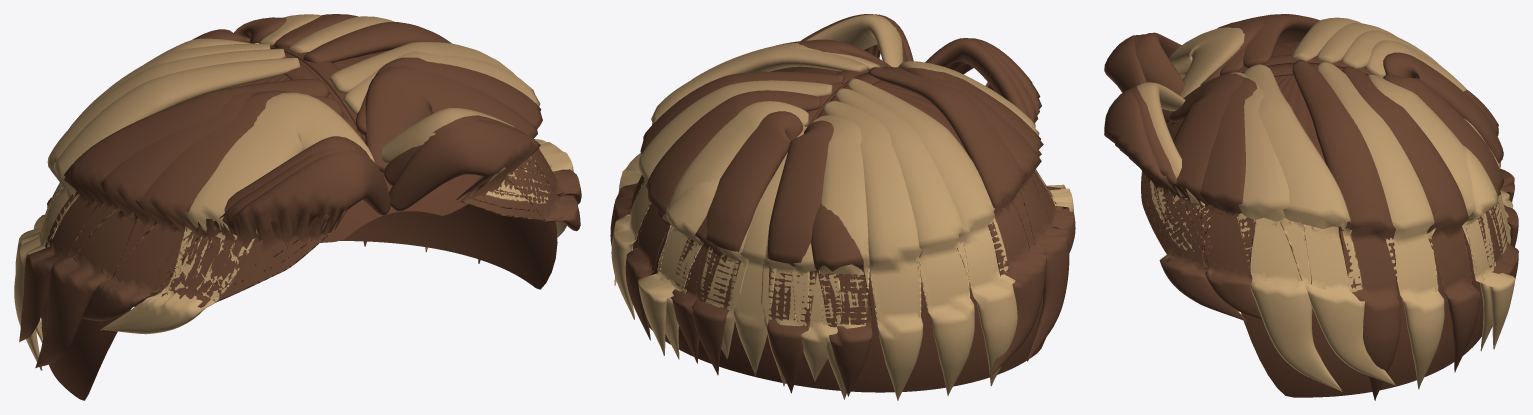
Rendered from Highlights-51723dd2ef7f251-hair.glb.
The picture shows the model from 3 angles, left to right: view 1: azimuth 30°, elevation 25°; view 2: azimuth 150°, elevation 25°; view 3: azimuth 270°, elevation 25°; orthographic projection. The views are drawn at different scales.
Visible parts, largest first — view 1: 226 hair / Hair / chestnut226.002, 226 hair / Hair / main251.001, 226 hair / Hair / recessed roots251.002, 226 hair / Hair / accent251.001, 226 hair / Hair / recessed roots251.003; view 2: 226 hair / Hair / main251.001, 226 hair / Hair / accent251.001, 226 hair / Hair / chestnut226.002, 226 hair / Hair / recessed roots251.002, 226 hair / Hair / recessed roots251.003; view 3: 226 hair / Hair / chestnut226.002, 226 hair / Hair / main251.001, 226 hair / Hair / accent251.001, 226 hair / Hair / recessed roots251.002, 226 hair / Hair / recessed roots251.003.
Boxes of the visible parts, bbox=[...] form: 226 hair / Hair / chestnut226.002: bbox=[19, 42, 581, 368]; 226 hair / Hair / main251.001: bbox=[14, 14, 480, 370]; 226 hair / Hair / recessed roots251.002: bbox=[41, 51, 557, 400]; 226 hair / Hair / accent251.001: bbox=[15, 14, 427, 343]; 226 hair / Hair / recessed roots251.003: bbox=[270, 45, 384, 176]; 226 hair / Hair / main251.001: bbox=[610, 71, 1017, 400]; 226 hair / Hair / accent251.001: bbox=[611, 80, 974, 399]; 226 hair / Hair / chestnut226.002: bbox=[614, 14, 1075, 377]; 226 hair / Hair / recessed roots251.002: bbox=[633, 68, 1045, 392]; 226 hair / Hair / recessed roots251.003: bbox=[806, 69, 880, 126]; 226 hair / Hair / chestnut226.002: bbox=[1104, 14, 1395, 391]; 226 hair / Hair / main251.001: bbox=[1292, 17, 1518, 400]; 226 hair / Hair / accent251.001: bbox=[1317, 23, 1515, 389]; 226 hair / Hair / recessed roots251.002: bbox=[1166, 42, 1483, 397]; 226 hair / Hair / recessed roots251.003: bbox=[1171, 54, 1373, 125].
Size of the model in its own units: 1.07 by 0.5895 by 0.8758.
